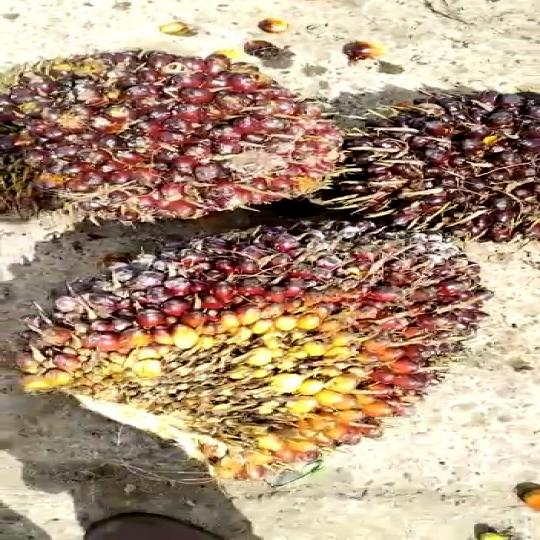kurang masak: (31, 215, 486, 505), (4, 31, 346, 224), (330, 82, 540, 259)
